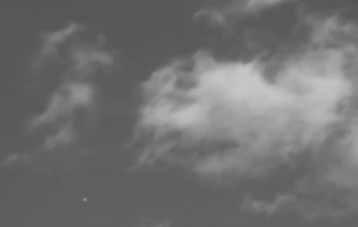Target: (84, 198, 87, 200)
